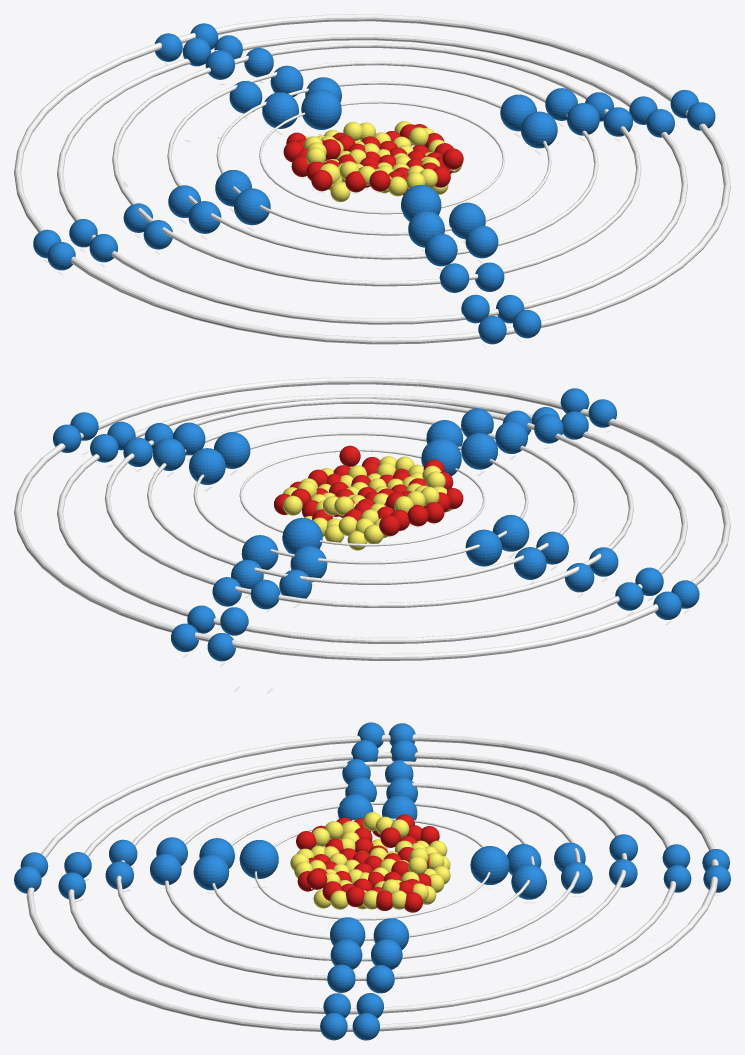
The picture shows the model from 3 angles, top to bottom: view 1: azimuth 30°, elevation 25°; view 2: azimuth 150°, elevation 25°; view 3: azimuth 270°, elevation 25°; orthographic projection. The views are drawn at different scales.
Visible parts, largest first — view 1: Torus.006, Torus.005, Torus.004, Torus.003, Torus.002, Torus.001, g, g.005, g.003, g.008, g.001, g.007 (+31 smaller); view 2: Torus.006, Torus.005, Torus.004, Torus.003, Torus.002, Torus.001, g, g.006, g.004, g.002, g.001, g.003 (+32 smaller); view 3: Torus.006, Torus.005, Torus.004, Torus.003, Torus.002, g.001, g, Torus.001, g.007, g.009, g.015, g.005 (+28 smaller).
Boxes of the visible parts, box(x1,y1,x2,y2) form: Torus.006: box(14, 14, 730, 344); Torus.005: box(57, 34, 687, 324); Torus.004: box(112, 42, 641, 286); Torus.003: box(167, 61, 598, 259); Torus.002: box(216, 81, 551, 235); Torus.001: box(259, 101, 504, 214); g: box(301, 89, 341, 129); g.005: box(521, 111, 557, 148); g.003: box(234, 188, 270, 225); g.008: box(262, 92, 298, 128); g.001: box(401, 185, 441, 221); g.007: box(449, 202, 485, 239); Torus.006: box(14, 377, 730, 660); Torus.005: box(57, 394, 687, 643); Torus.004: box(104, 398, 633, 607); Torus.003: box(147, 414, 577, 584); Torus.002: box(193, 432, 528, 564); Torus.001: box(239, 449, 485, 546); g: box(282, 517, 322, 553); g.006: box(461, 432, 497, 469); g.004: box(189, 448, 225, 484); g.002: box(465, 529, 502, 566); g.001: box(421, 438, 461, 476); g.003: box(492, 515, 529, 551); Torus.006: box(26, 734, 718, 1031); Torus.005: box(68, 752, 676, 1014); Torus.004: box(116, 761, 627, 980); Torus.003: box(164, 782, 580, 961); Torus.002: box(212, 801, 534, 940); g.001: box(239, 840, 278, 878); g: box(470, 846, 509, 884); Torus.001: box(254, 818, 490, 920); g.007: box(193, 854, 229, 890); g.009: box(511, 864, 546, 899); g.015: box(150, 853, 181, 885); g.005: box(330, 917, 365, 947).
Bounding box in the file's own units: 18.21 × 2.92 × 18.12.
